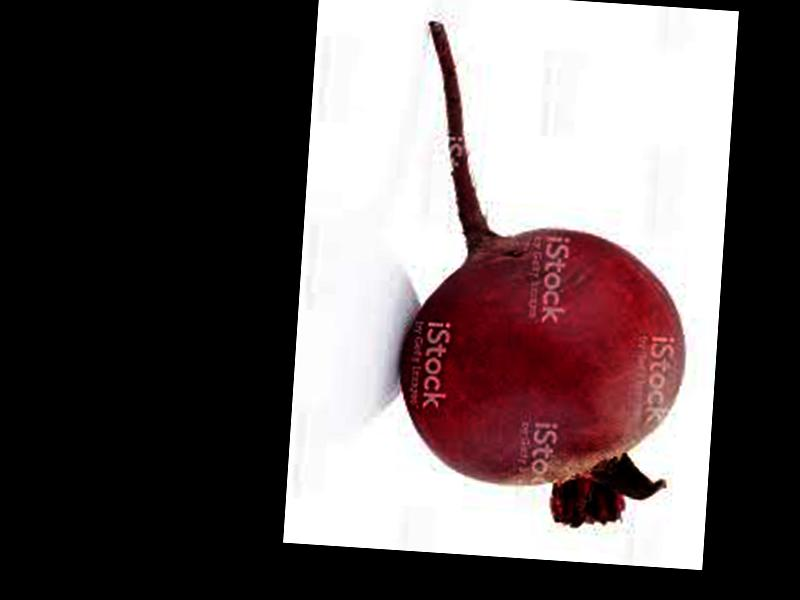Beet: (391, 23, 703, 531)
